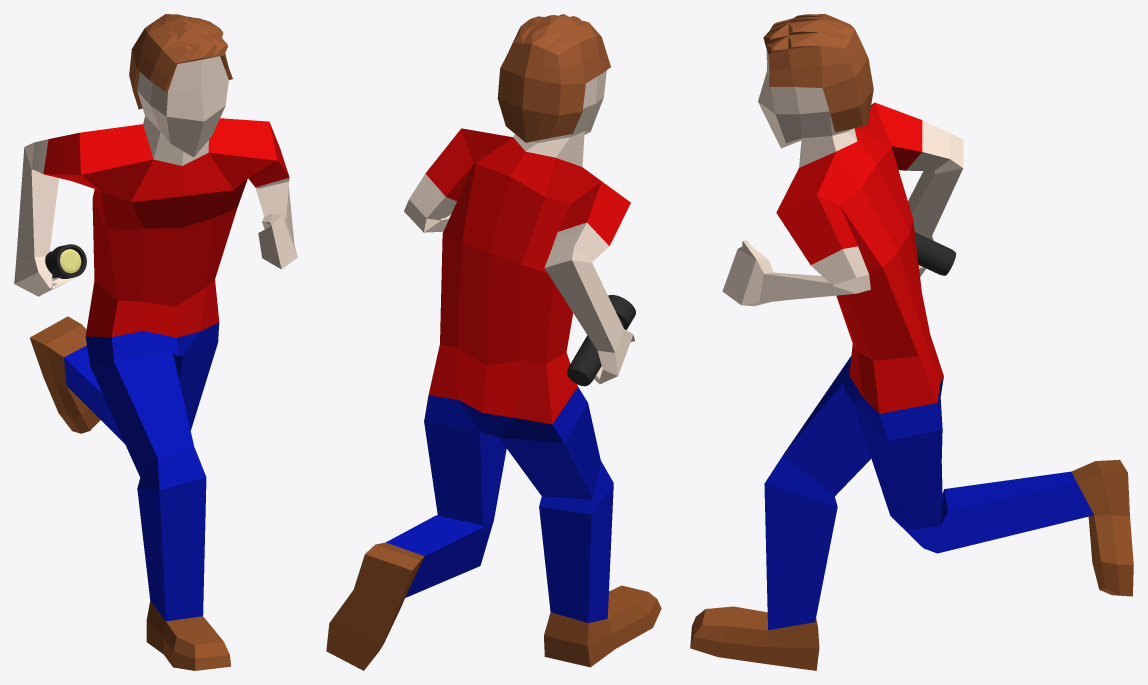
The model's file is Human_running_19.fbx.
3 views of the same model, side by side, from view 1: azimuth 30°, elevation 25°; view 2: azimuth 150°, elevation 25°; view 3: azimuth 270°, elevation 25° (orthographic). The views are drawn at different scales.
Visible parts, largest first — view 1: Person.004, Flashlight; view 2: Person.004, Flashlight; view 3: Person.004, Flashlight.
Boxes of the visible parts, x1,y1,x2,y2 form: Person.004: (14, 14, 297, 670); Flashlight: (45, 244, 86, 278); Person.004: (326, 14, 661, 670); Flashlight: (567, 295, 635, 386); Person.004: (690, 14, 1133, 670); Flashlight: (914, 232, 956, 275).
Bounding box in the file's own units: 0.6129 × 1.5 × 0.9292.
